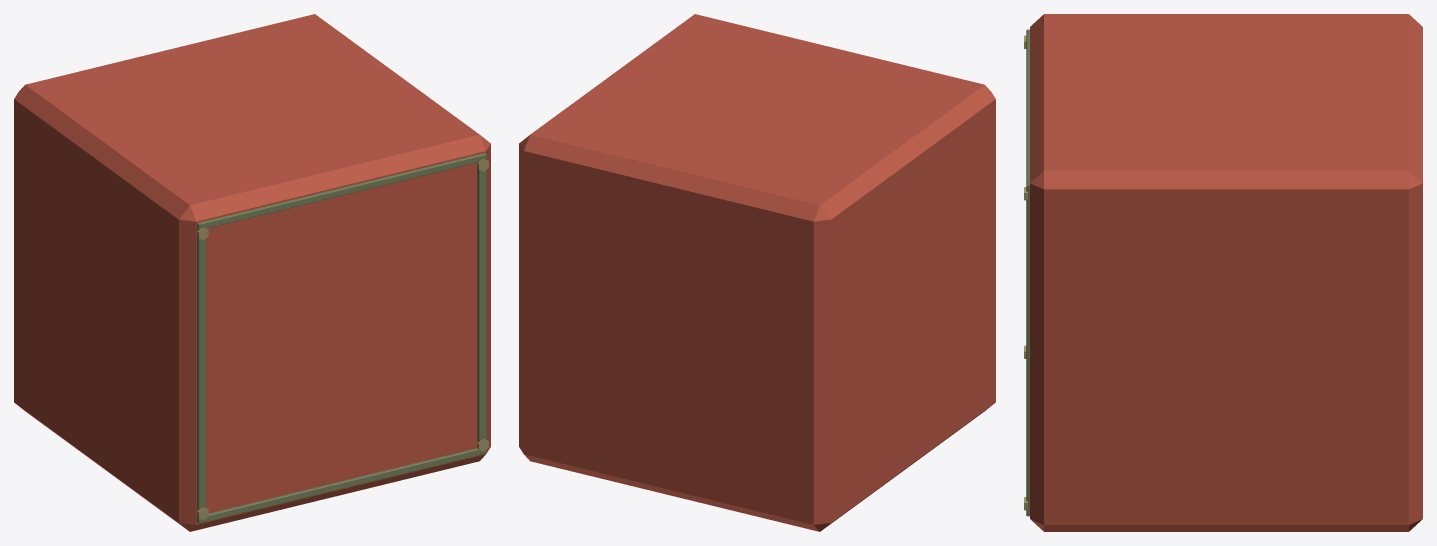
The model's file is redStructure.obj.
3 views of the same model, side by side, from view 1: azimuth 30°, elevation 25°; view 2: azimuth 150°, elevation 25°; view 3: azimuth 270°, elevation 25° (orthographic). The views are drawn at different scales.
Visible parts, largest first — view 1: redStructure; view 2: redStructure; view 3: redStructure.
Boxes of the visible parts, x1=… form: redStructure: x1=14, y1=14, x2=490, y2=531; redStructure: x1=519, y1=14, x2=995, y2=531; redStructure: x1=1024, y1=14, x2=1422, y2=531.
Size of the model in its own units: 1 by 1 by 1.
Materials: 1 (1 with a texture image).
